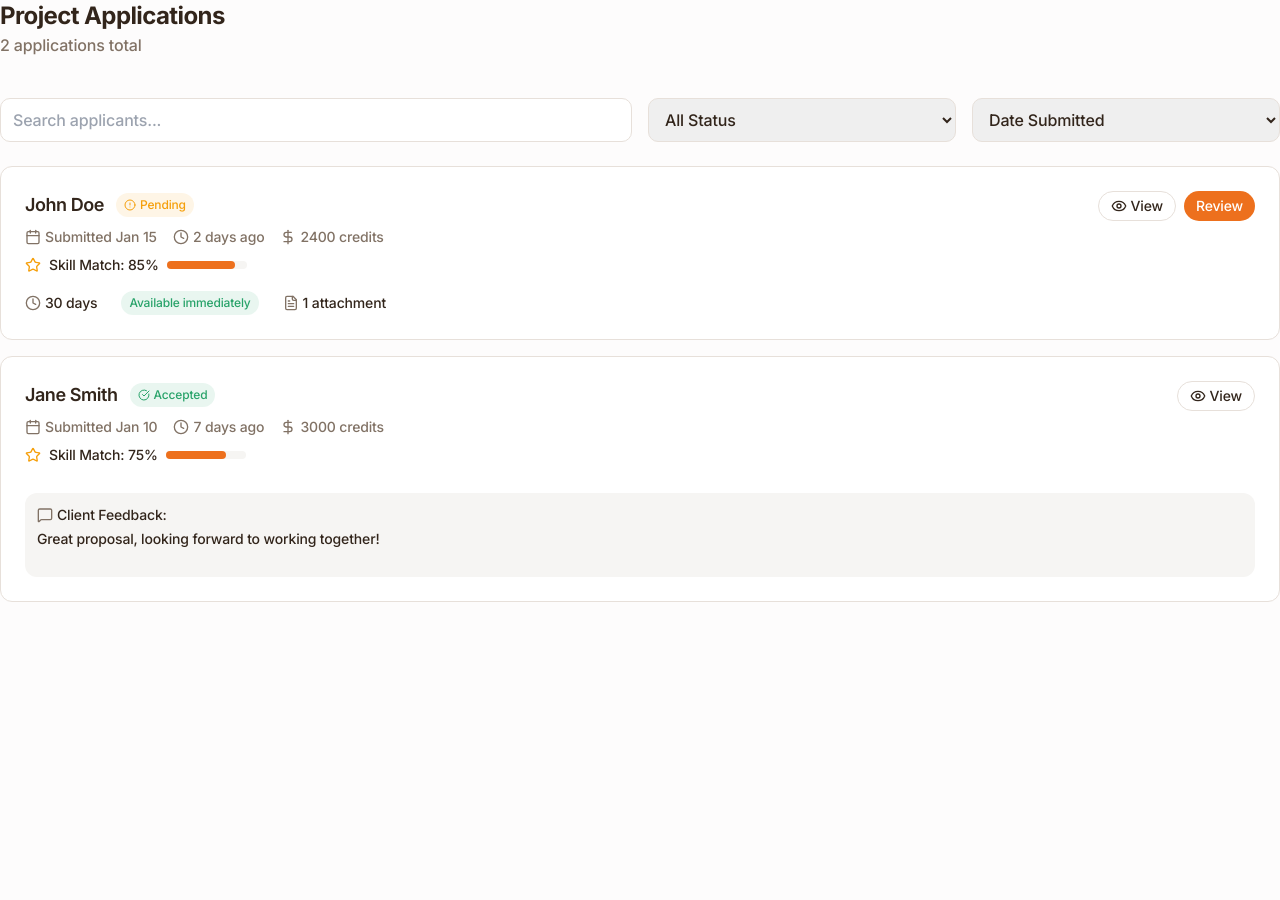
Test case: ApplicationsView › Status Update Dialog › opens status update dialog when Review is clicked
The width and height of the screenshot is (1280, 900).
Click the button "Review": (1219, 206) [1184,191,1255,221]
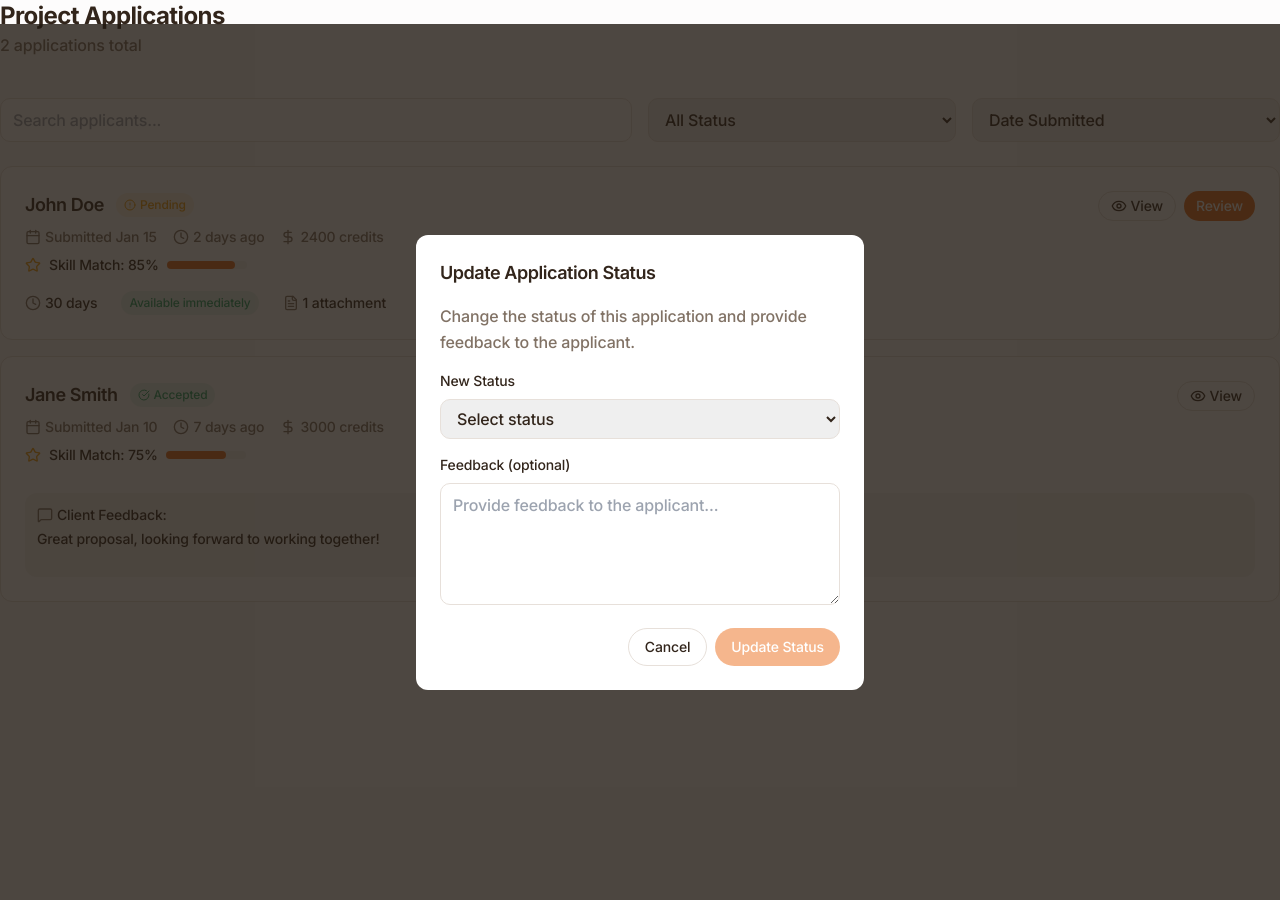
Check: the heading "Update Application Status" is shown, box [440,262,656,282]
Check: the dropdown labelled "New Status" is shown, box [440,398,840,438]
Check: the text box labelled "Feedback (optional)" is shown, box [440,482,840,604]
